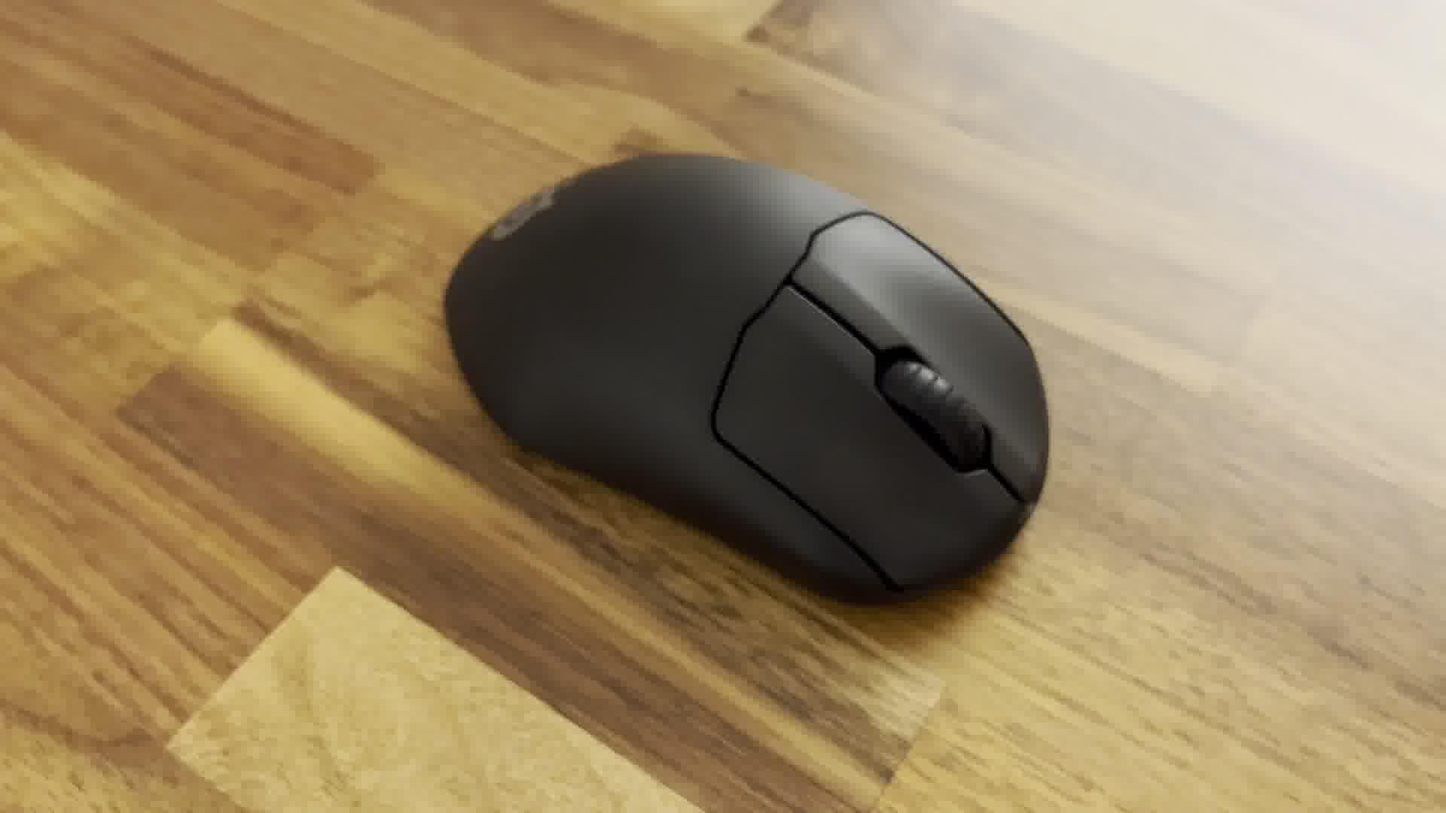mouse: (440, 146, 1056, 617)
